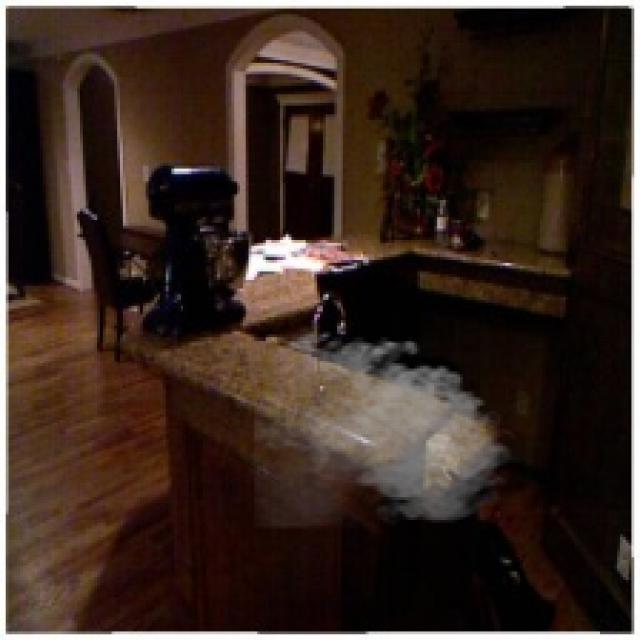smoke: (254, 326, 520, 528)
